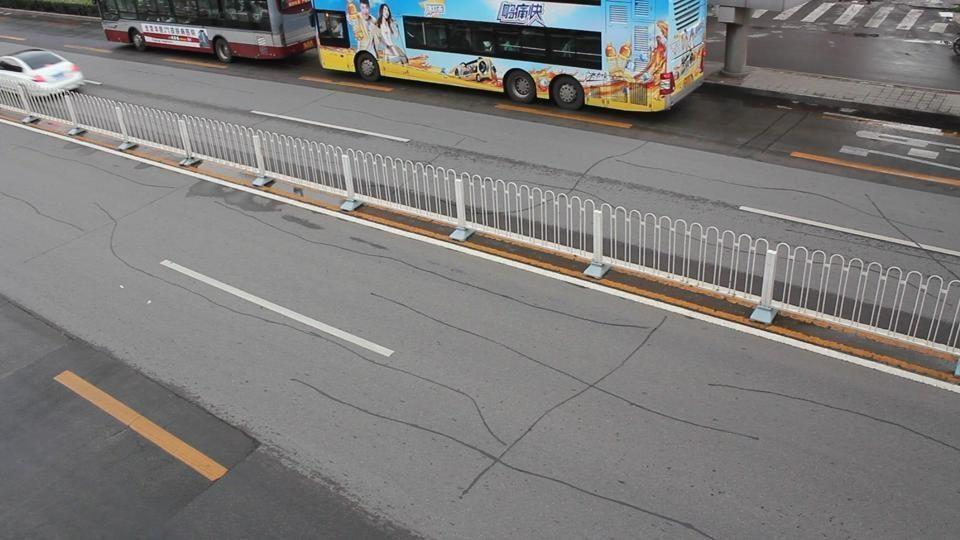car: (0, 48, 85, 95)
